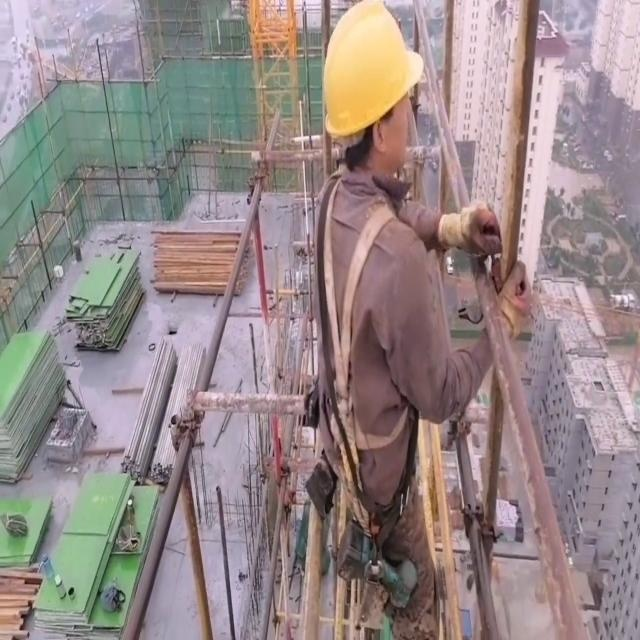Arnes_seguridad: (313, 166, 419, 462)
